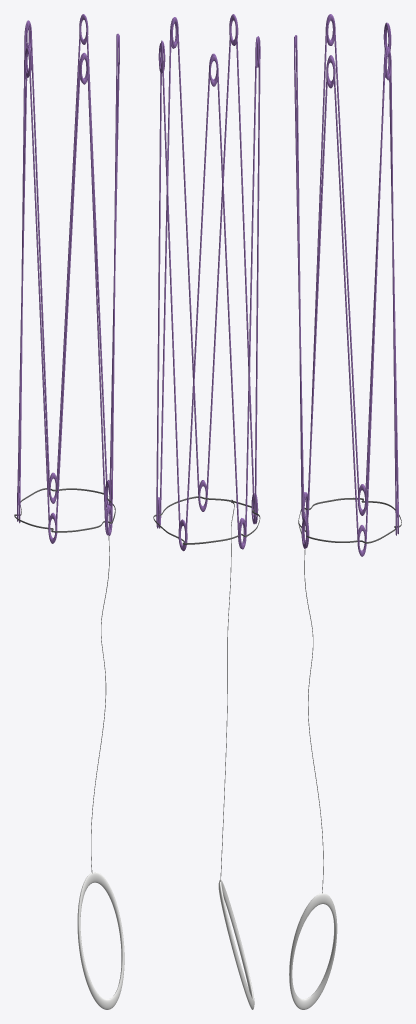
The model's file is fig5a5b.glb.
3 renders of one model, left to right at view 1: azimuth 90°, elevation 25°; view 2: azimuth 150°, elevation 25°; view 3: azimuth 270°, elevation 25°, orthographic. The views are drawn at different scales.
Visible parts, largest first — view 1: 5A - 5B; view 2: 5A - 5B; view 3: 5A - 5B.
Part boxes in pixels (box(x1,y1,x2,y2)): 5A - 5B: box(14, 14, 124, 1009); 5A - 5B: box(153, 14, 260, 1009); 5A - 5B: box(289, 14, 401, 1009).
Size of the model in its own units: 1.79 by 18.39 by 1.9.
